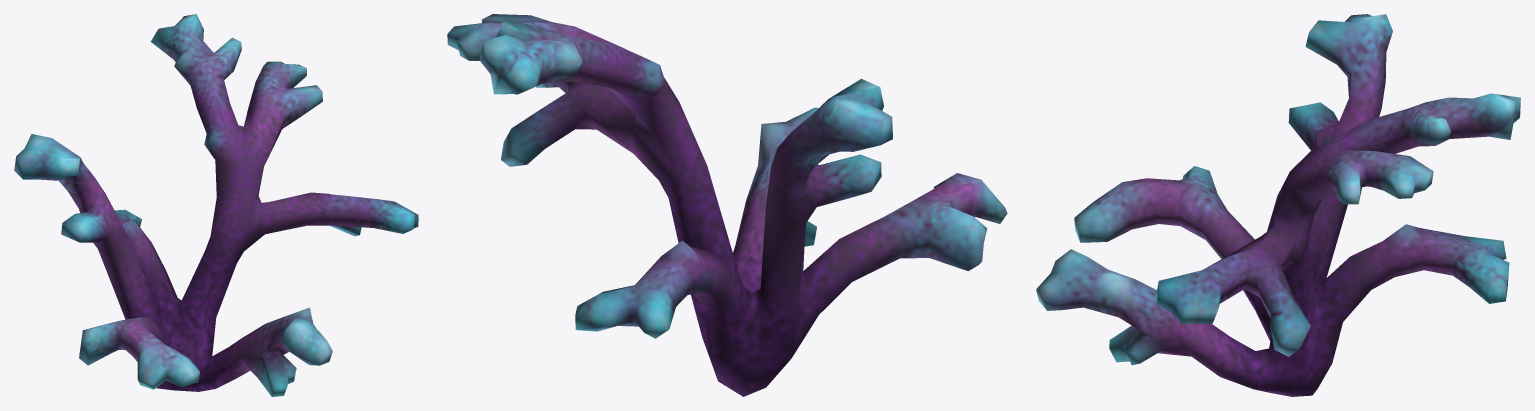
Rendered from Coral05-2.fbx.
The picture shows the model from 3 angles, left to right: view 1: azimuth 30°, elevation 25°; view 2: azimuth 150°, elevation 25°; view 3: azimuth 270°, elevation 25°; orthographic projection. The views are drawn at different scales.
Visible parts, largest first — view 1: Coral_13_2; view 2: Coral_13_2; view 3: Coral_13_2.
Boxes of the visible parts, x1,y1,x2,y2 form: Coral_13_2: (14,14,418,396); Coral_13_2: (447,14,1007,396); Coral_13_2: (1036,14,1520,396).
Size of the model in its own units: 74.77 by 62.75 by 77.08.
